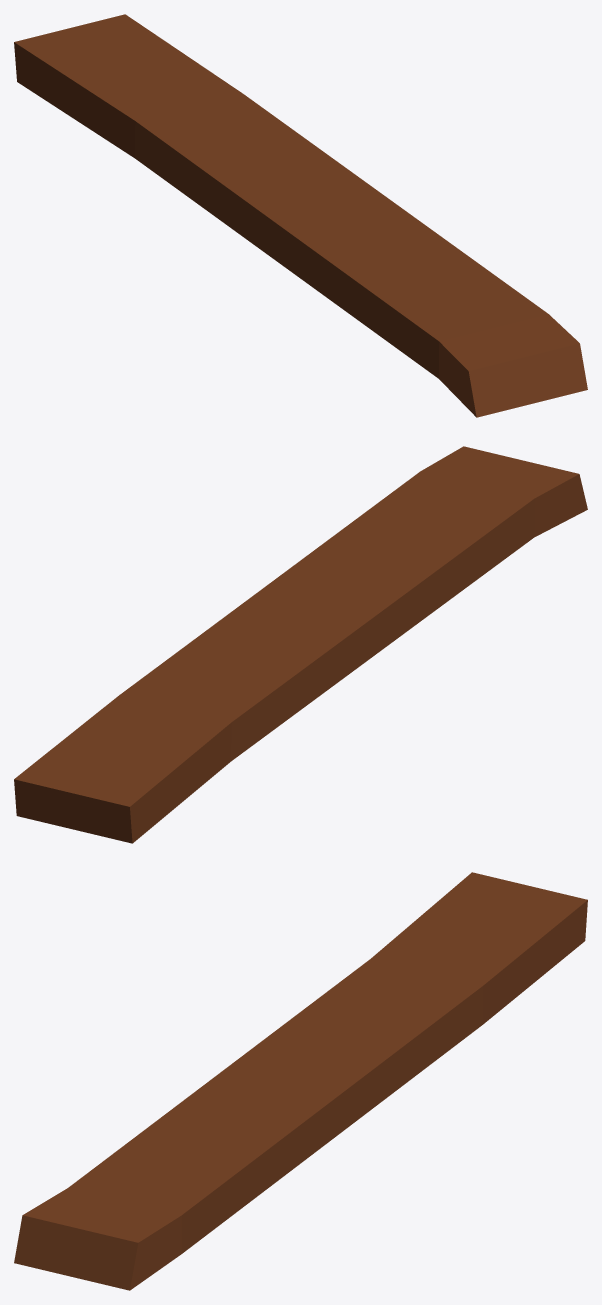
Rendered from PlankAlone.fbx.
The picture shows the model from 3 angles, top to bottom: view 1: azimuth 30°, elevation 25°; view 2: azimuth 150°, elevation 25°; view 3: azimuth 330°, elevation 25°; orthographic projection. The views are drawn at different scales.
Visible parts, largest first — view 1: Plank_01; view 2: Plank_01; view 3: Plank_01.
Part boxes in pixels (x1=…): Plank_01: x1=14, y1=14, x2=587, y2=417; Plank_01: x1=14, y1=446, x2=587, y2=843; Plank_01: x1=14, y1=872, x2=587, y2=1290.
Size of the model in its own units: 20.95 by 7.22 by 131.
